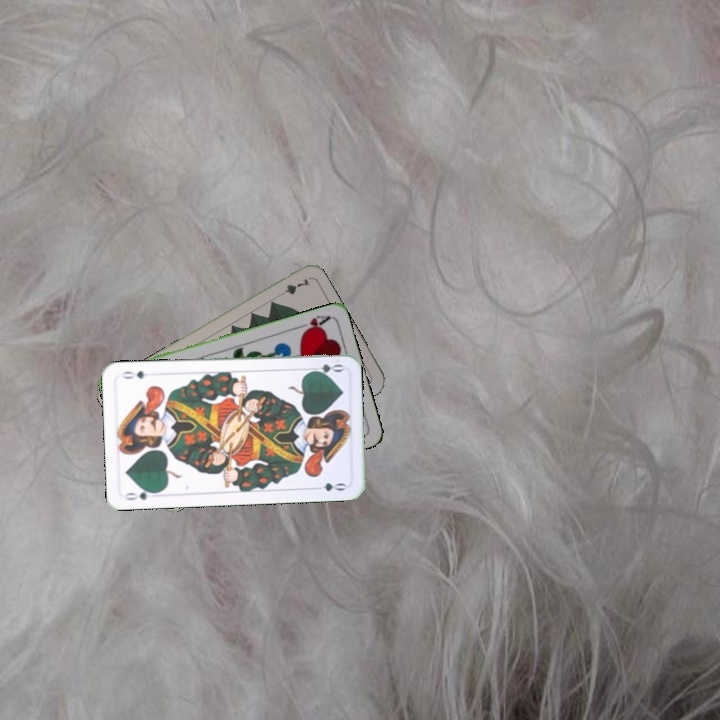G7: (273, 274, 312, 300)
GO: (121, 485, 162, 503), (304, 360, 345, 376)
HA: (293, 311, 333, 336)
